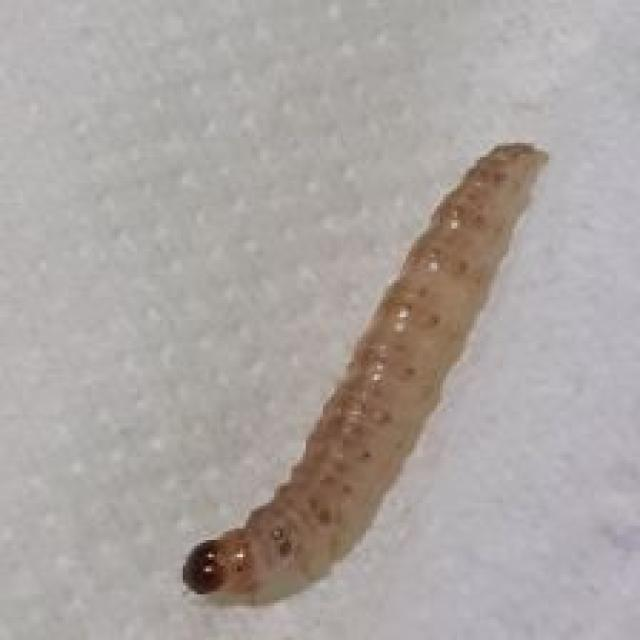white mucus: (171, 121, 589, 600)
